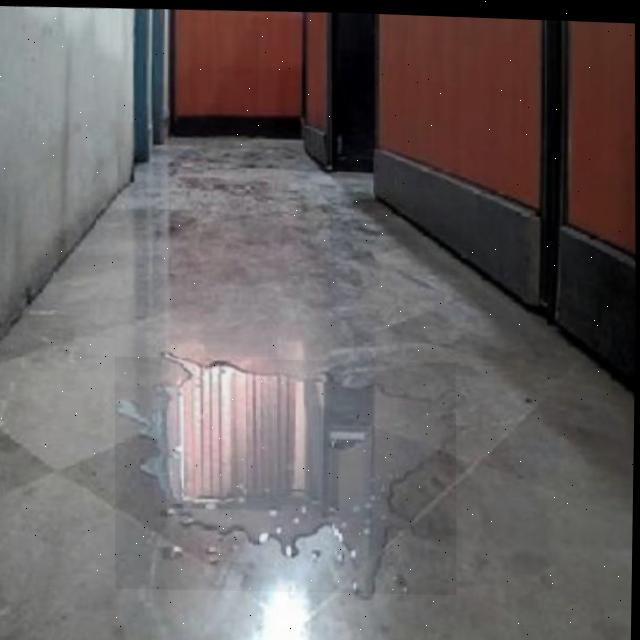spillage: (117, 357, 457, 589)
